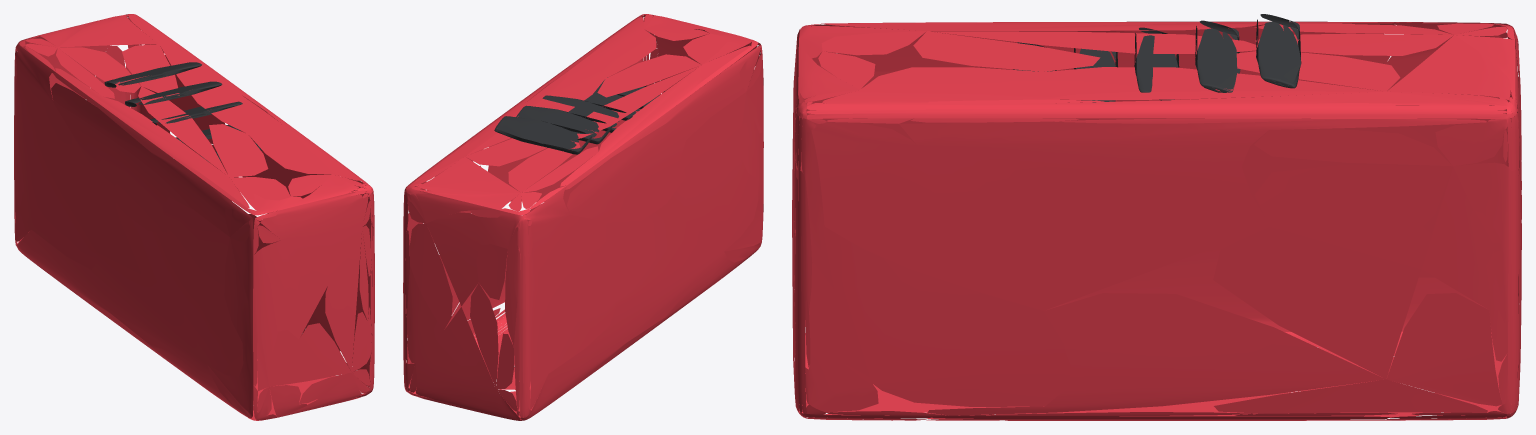
Rendered from hypercar_fender_front_right.glb.
The picture shows the model from 3 angles, left to right: view 1: azimuth 30°, elevation 25°; view 2: azimuth 150°, elevation 25°; view 3: azimuth 270°, elevation 25°; orthographic projection. The views are drawn at different scales.
Visible parts, largest first — view 1: Hypercar_Fender_Front_Right; view 2: Hypercar_Fender_Front_Right; view 3: Hypercar_Fender_Front_Right.
Part boxes in pixels (left/top/right/bottom): Hypercar_Fender_Front_Right: left=14, top=14, right=374, bottom=420; Hypercar_Fender_Front_Right: left=403, top=14, right=763, bottom=420; Hypercar_Fender_Front_Right: left=792, top=14, right=1521, bottom=420.
Size of the model in its own units: 0.2395 by 0.4009 by 0.7795.
